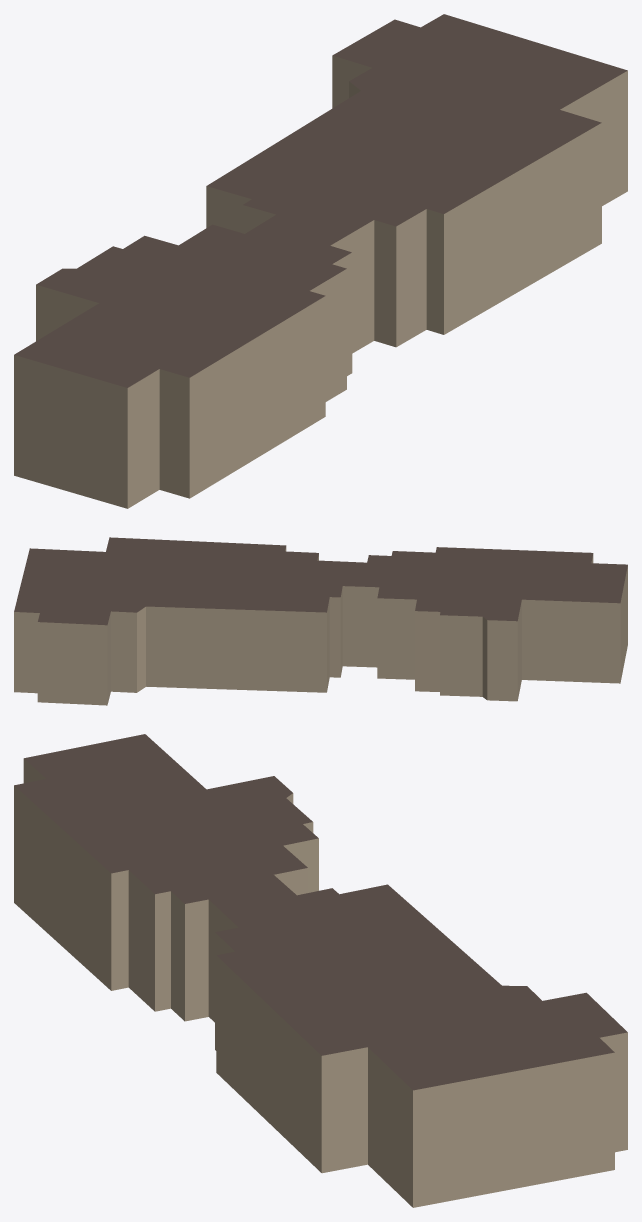
3 renders of one model, top to bottom at view 1: azimuth 30°, elevation 25°; view 2: azimuth 150°, elevation 25°; view 3: azimuth 270°, elevation 25°, orthographic. The views are drawn at different scales.
Parts seen in each view (by area): view 1: HP-w1512359752; view 2: HP-w1512359752; view 3: HP-w1512359752.
Part boxes in pixels (box(x1,y1,x2,y2)): HP-w1512359752: box(14, 14, 627, 508); HP-w1512359752: box(14, 537, 627, 705); HP-w1512359752: box(14, 734, 627, 1207).
Bounding box in the file's own units: 58.57 × 9 × 42.63.
